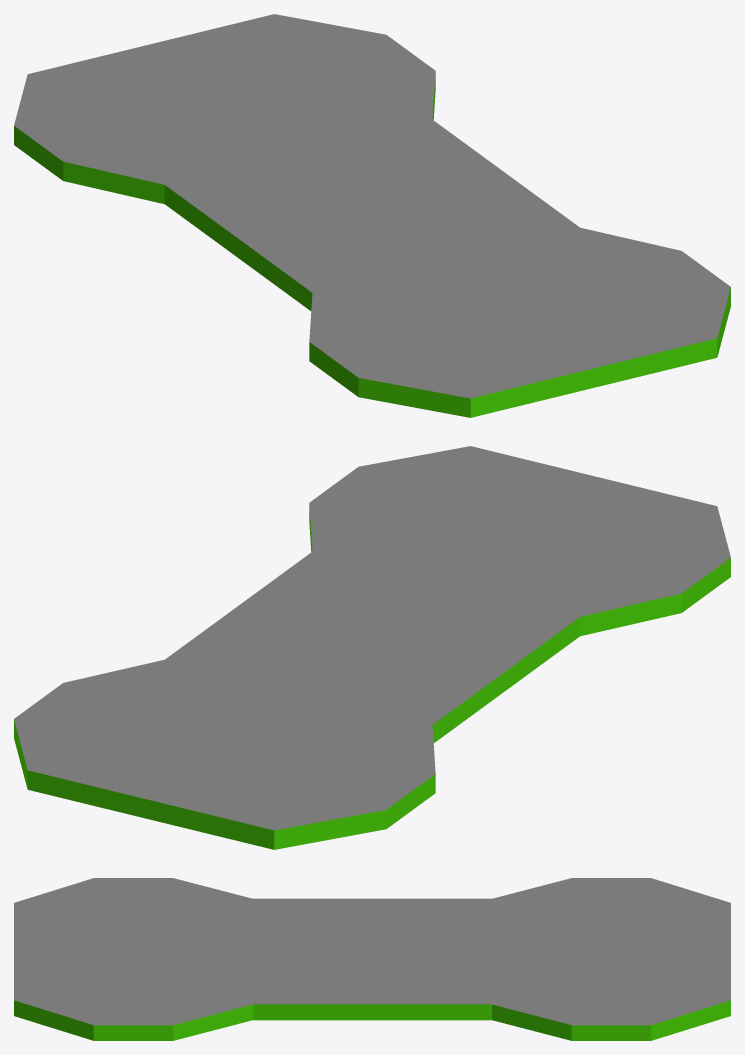
3 views of the same model, one above another, from view 1: azimuth 30°, elevation 25°; view 2: azimuth 150°, elevation 25°; view 3: azimuth 270°, elevation 25° (orthographic). The views are drawn at different scales.
Parts seen in each view (by area): view 1: EngraveFace, Cube; view 2: EngraveFace, Cube; view 3: EngraveFace, Cube.
Boxes of the visible parts, left/top/right/bottom form: EngraveFace: left=14, top=14, right=730, bottom=398; Cube: left=14, top=73, right=730, bottom=417; EngraveFace: left=14, top=446, right=730, bottom=830; Cube: left=14, top=505, right=730, bottom=849; EngraveFace: left=14, top=878, right=730, bottom=1025; Cube: left=14, top=1000, right=730, bottom=1040.
Bounding box in the file's own units: 2 × 0.0998 × 4.12.
